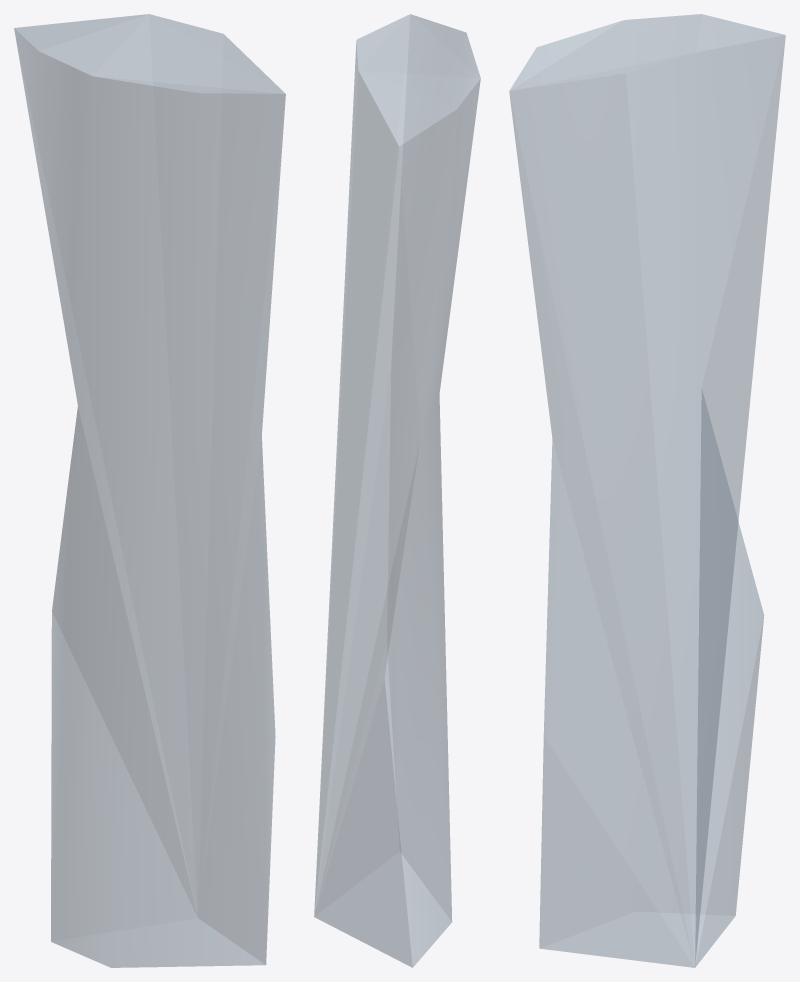
The model's file is piece5.obj.
The picture shows the model from 3 angles, left to right: view 1: azimuth 30°, elevation 25°; view 2: azimuth 150°, elevation 25°; view 3: azimuth 270°, elevation 25°; orthographic projection. The views are drawn at different scales.
Parts seen in each view (by area): view 1: 立方体.002_cell.022; view 2: 立方体.002_cell.022; view 3: 立方体.002_cell.022.
Part boxes in pixels (x1,y1,x2,y2): 立方体.002_cell.022: (14,14,285,967); 立方体.002_cell.022: (314,14,480,967); 立方体.002_cell.022: (509,14,785,967).
Size of the model in its own units: 0.012 by 0.0681 by 0.019.
